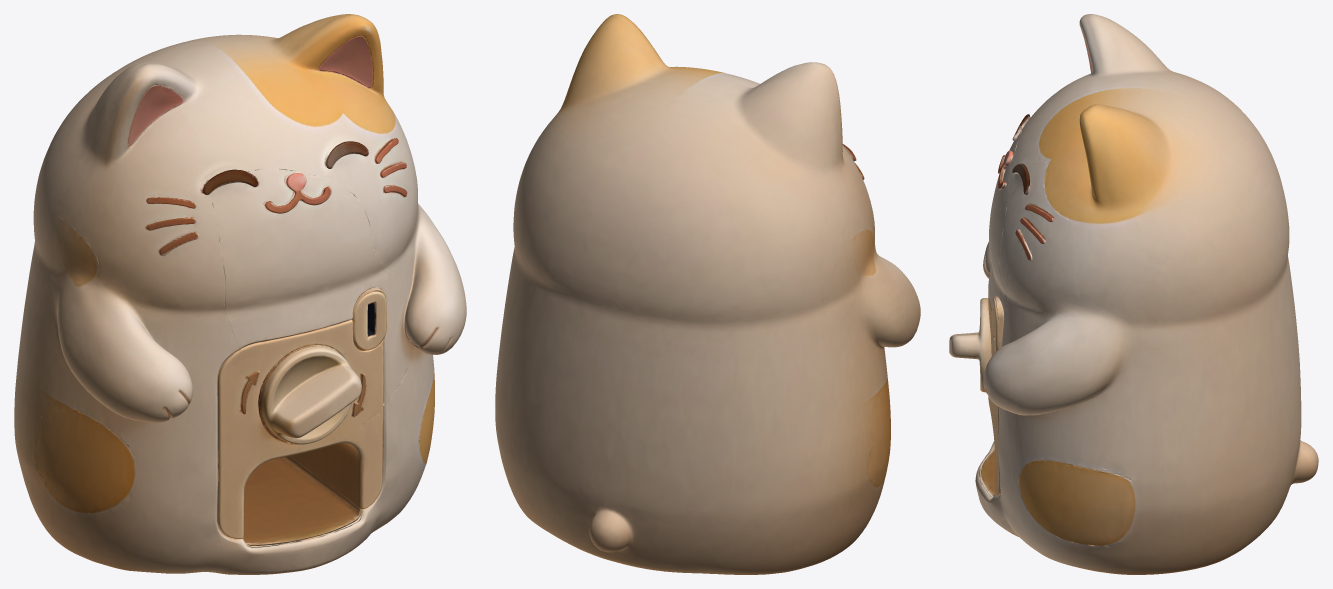
The model's file is gacha.glb.
The picture shows the model from 3 angles, left to right: view 1: azimuth 30°, elevation 25°; view 2: azimuth 150°, elevation 25°; view 3: azimuth 270°, elevation 25°; orthographic projection. The views are drawn at different scales.
Size of the model in its own units: 0.7916 by 0.9793 by 0.7375.
1 material, 1 textured.
